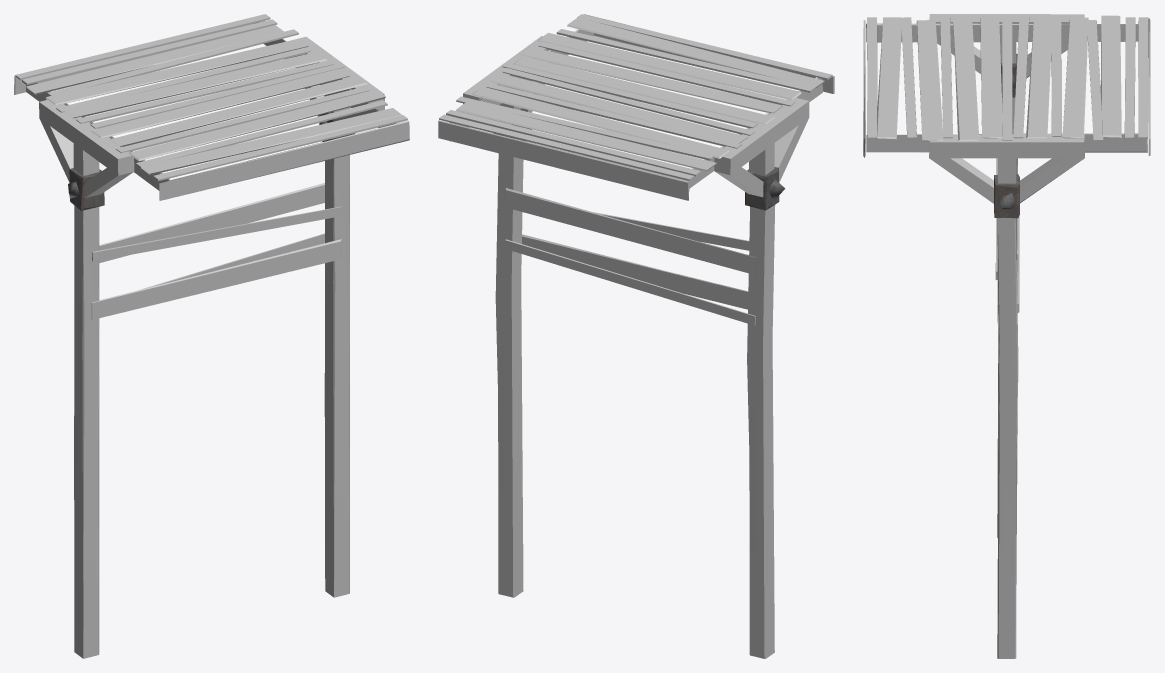
File: SM_Gangway_05.fbx
The picture shows the model from 3 angles, left to right: view 1: azimuth 30°, elevation 25°; view 2: azimuth 150°, elevation 25°; view 3: azimuth 270°, elevation 25°; orthographic projection.
Visible parts, largest first — view 1: SM_Gangway_05_LOD0; view 2: SM_Gangway_05_LOD0; view 3: SM_Gangway_05_LOD0.
Boxes of the visible parts, left/top/right/bottom form: SM_Gangway_05_LOD0: left=14, top=14, right=409, bottom=658; SM_Gangway_05_LOD0: left=438, top=14, right=834, bottom=658; SM_Gangway_05_LOD0: left=863, top=14, right=1150, bottom=658.
Bounding box in the file's own units: 466 × 403 × 802.
